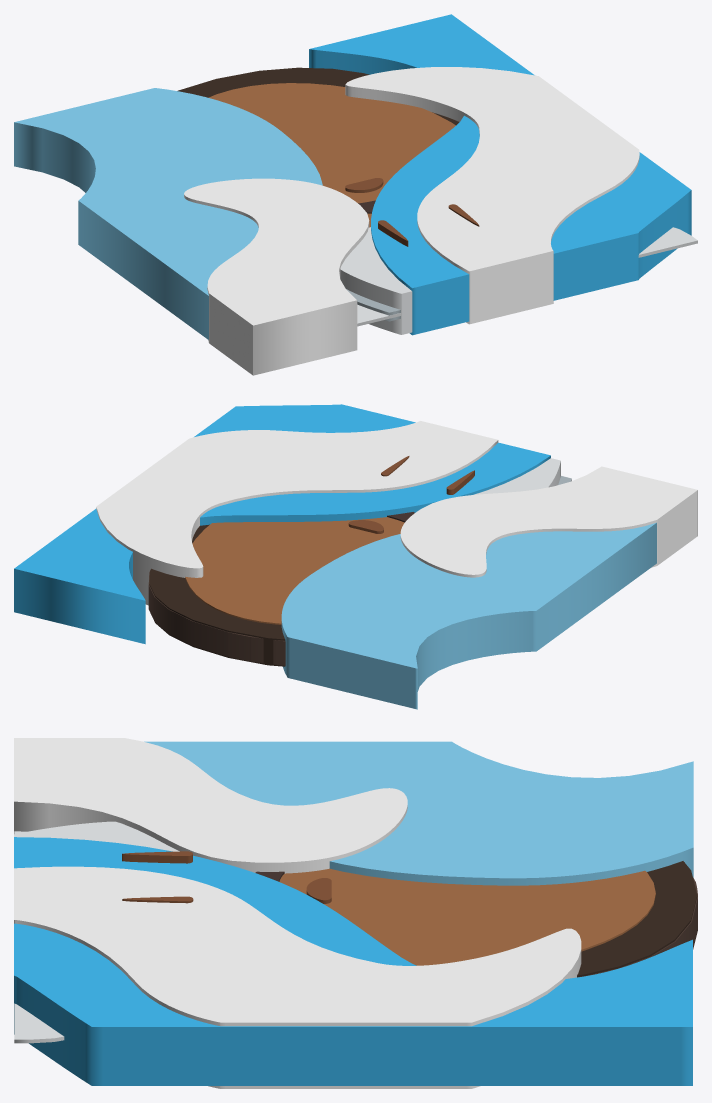
Rendered from emoji_u1f9d6_1f3fe_200d_2642.glb.
3 renders of one model, top to bottom at view 1: azimuth 30°, elevation 25°; view 2: azimuth 150°, elevation 25°; view 3: azimuth 270°, elevation 25°, orthographic. The views are drawn at different scales.
Visible parts, largest first — view 1: emoji_u1f9d6_1f3fe_200d_2642; view 2: emoji_u1f9d6_1f3fe_200d_2642; view 3: emoji_u1f9d6_1f3fe_200d_2642.
Boxes of the visible parts, box(x1,y1,x2,y2) form: emoji_u1f9d6_1f3fe_200d_2642: box(14, 14, 697, 375); emoji_u1f9d6_1f3fe_200d_2642: box(14, 404, 697, 709); emoji_u1f9d6_1f3fe_200d_2642: box(14, 738, 697, 1088).
Bounding box in the file's own units: 0.0334 × 0.004 × 0.0336.
